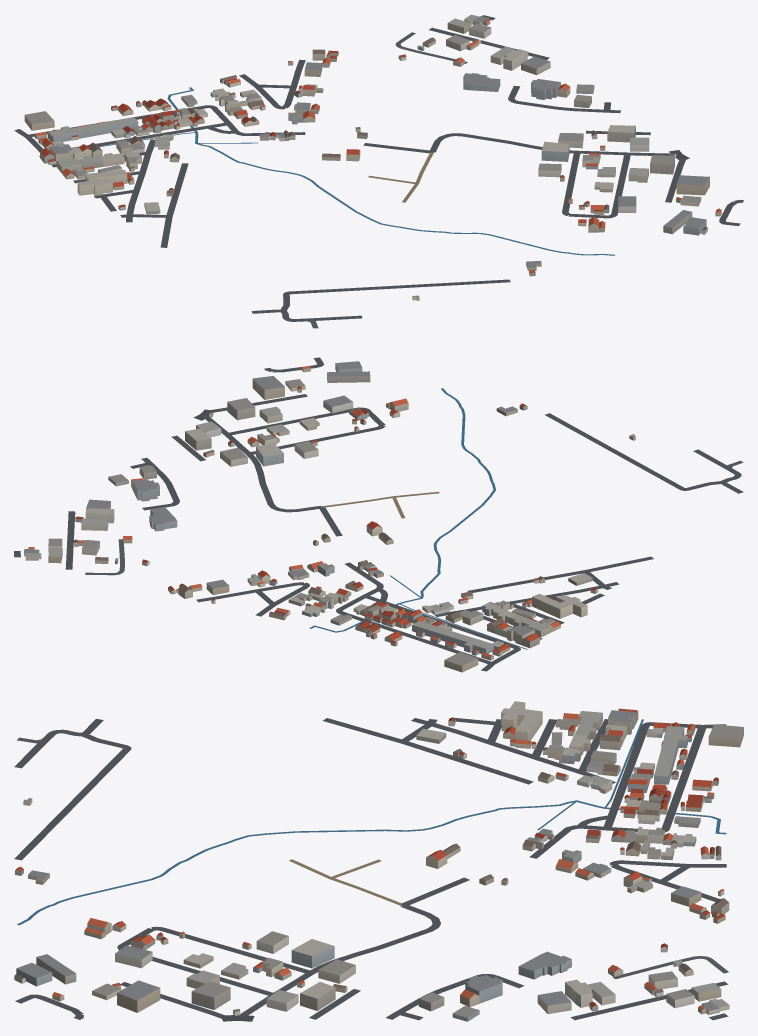
3 renders of one model, top to bottom at view 1: azimuth 30°, elevation 25°; view 2: azimuth 150°, elevation 25°; view 3: azimuth 270°, elevation 25°, orthographic. The views are drawn at different scales.
Visible parts, largest first — view 1: buildings_roofs, buildings_walls, roads, water; view 2: buildings_walls, buildings_roofs, roads, water; view 3: buildings_roofs, buildings_walls, roads, water.
Boxes of the visible parts, x1,y1,x2,y2 form: buildings_roofs: [25, 14, 721, 297]; buildings_walls: [24, 18, 721, 300]; roads: [14, 15, 743, 328]; water: [39, 87, 614, 255]; buildings_walls: [24, 364, 635, 672]; buildings_roofs: [24, 361, 635, 665]; roads: [14, 357, 743, 671]; water: [309, 388, 527, 649]; buildings_roofs: [14, 701, 743, 1017]; buildings_walls: [14, 703, 743, 1021]; roads: [14, 717, 728, 1021]; water: [17, 719, 726, 925].
Size of the model in its own units: 515 by 9.62 by 515.
